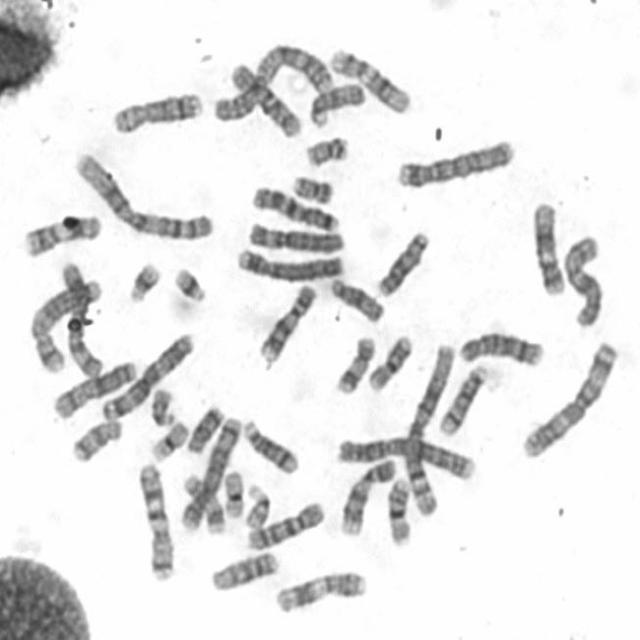A1: (69, 146, 217, 243), (400, 337, 458, 519)
A2: (208, 37, 336, 123), (331, 429, 478, 482)
A3: (516, 335, 620, 461), (96, 327, 197, 423)
B4: (391, 132, 516, 191), (232, 244, 346, 282)
B5: (176, 409, 243, 534), (26, 272, 104, 376)
C10: (226, 57, 304, 140), (241, 496, 327, 552)
C11: (269, 565, 368, 615), (18, 207, 103, 259)
C12: (325, 41, 412, 116), (528, 196, 567, 298)
C6: (56, 257, 104, 380), (242, 217, 347, 254)
C7: (133, 457, 176, 583), (247, 181, 341, 233)
C8: (107, 85, 205, 136), (454, 325, 546, 369)
C9: (254, 279, 318, 364), (335, 452, 398, 537)
D13: (371, 226, 431, 300), (204, 548, 282, 597)
D14: (434, 359, 490, 438), (238, 414, 302, 476)
D15: (304, 77, 366, 129), (326, 272, 386, 325)
E16: (362, 329, 414, 394), (382, 472, 414, 548)
E17: (178, 470, 226, 536), (330, 331, 377, 396)
E18: (66, 414, 123, 464), (182, 400, 226, 455)
F19: (145, 416, 190, 464), (219, 465, 245, 520)
F20: (300, 130, 350, 168), (287, 170, 335, 205)
G21: (123, 255, 163, 305), (169, 261, 209, 304)
G22: (239, 479, 272, 531), (146, 383, 177, 428)
X: (48, 356, 138, 420), (558, 228, 605, 329)
